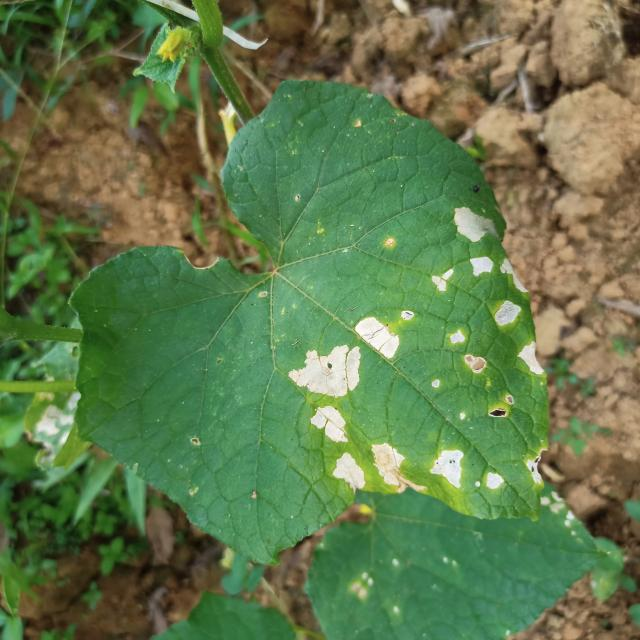disease_cucumber: (288, 319, 398, 398), (332, 442, 408, 491), (432, 449, 506, 499), (454, 206, 501, 278), (449, 330, 488, 376), (311, 406, 348, 444), (518, 339, 544, 380), (501, 256, 527, 294), (493, 301, 521, 330), (429, 270, 456, 294)
